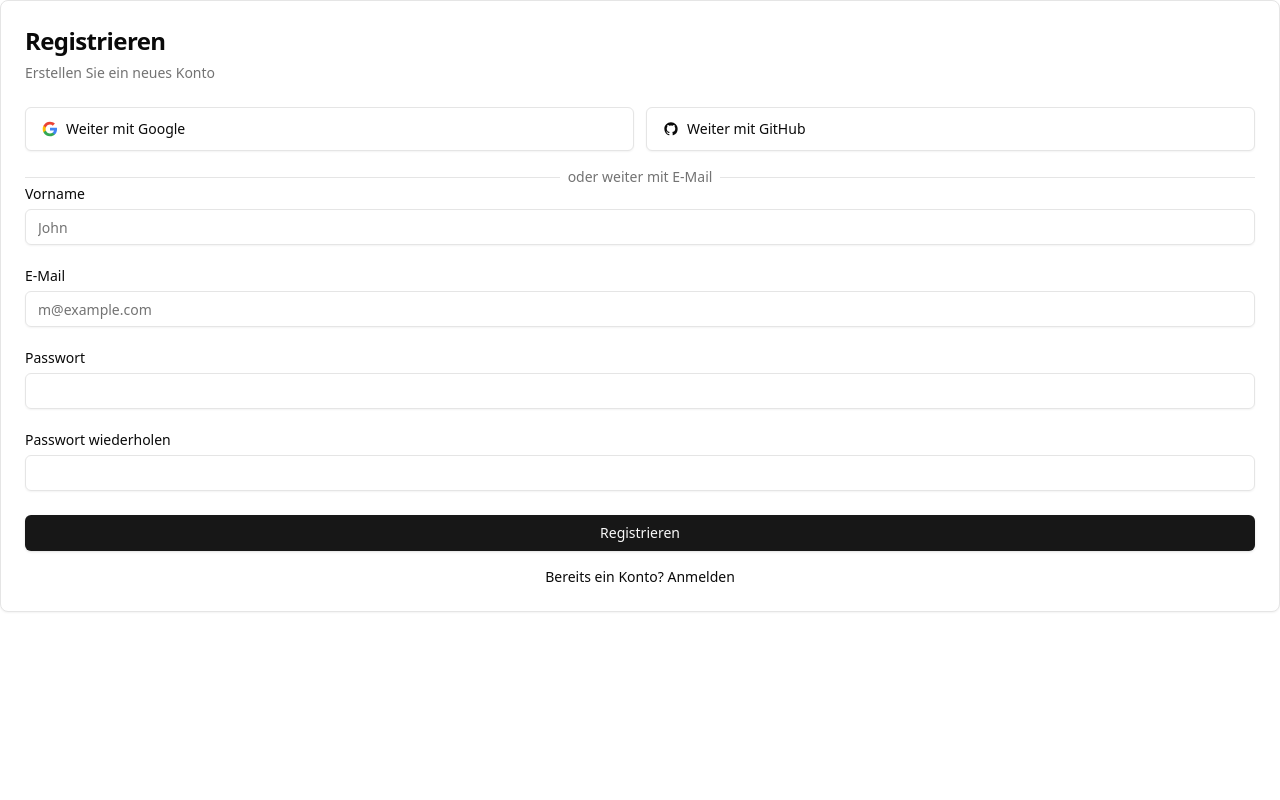
SignUpForm › shows password mismatch error in German
Type "Hans" into the field labelled "Vorname". click: (640, 227)
box: [25,209,1255,245]
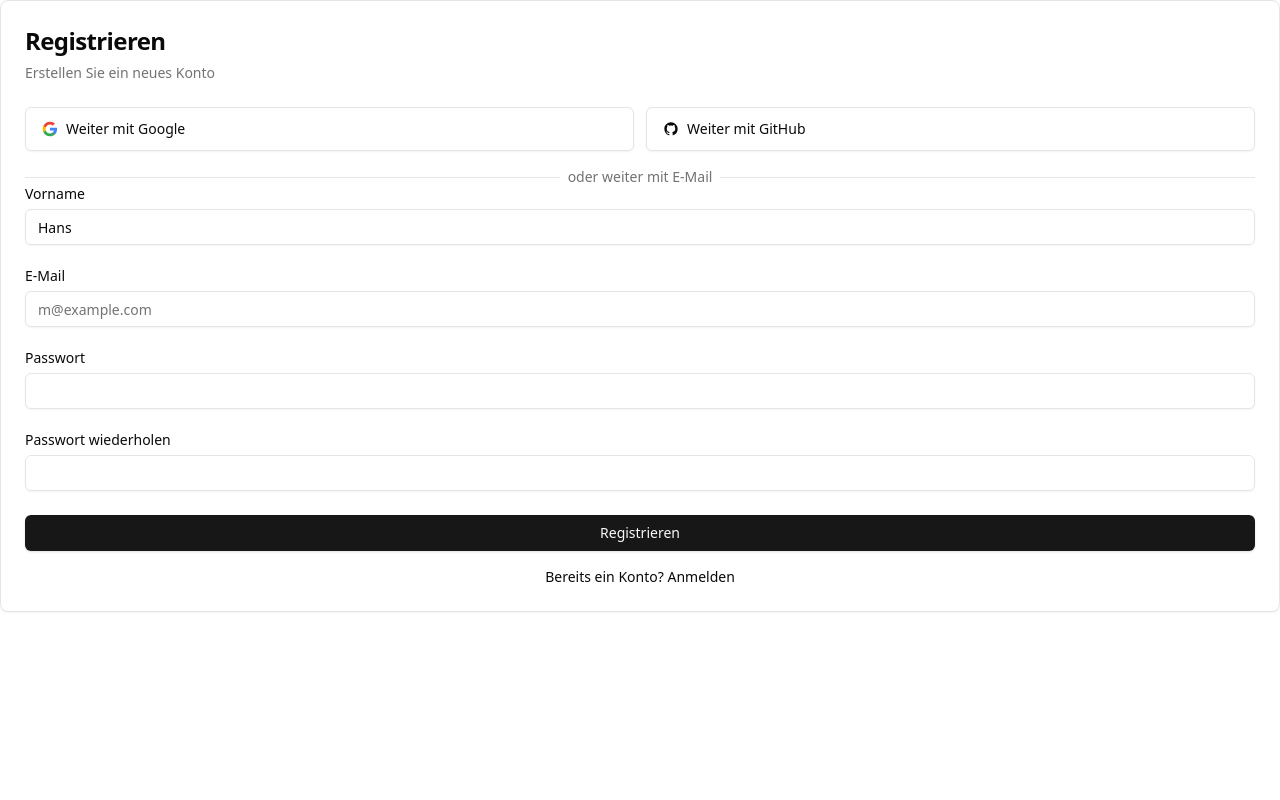
Type "hans@example.com" into the field labelled "E-Mail". click: (640, 309)
box: [25,291,1255,327]
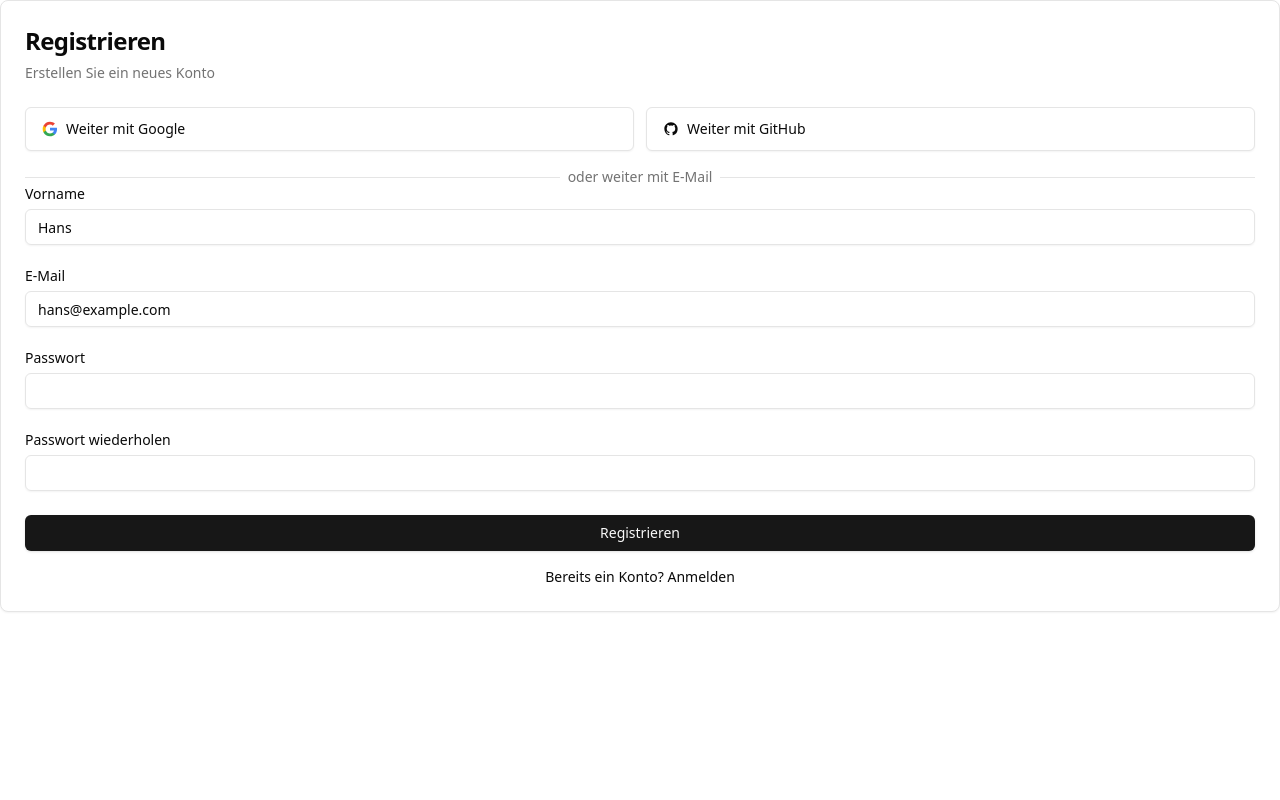
Type "password123" into the password field labelled "Passwort". click: (640, 391)
box: [25,373,1255,409]
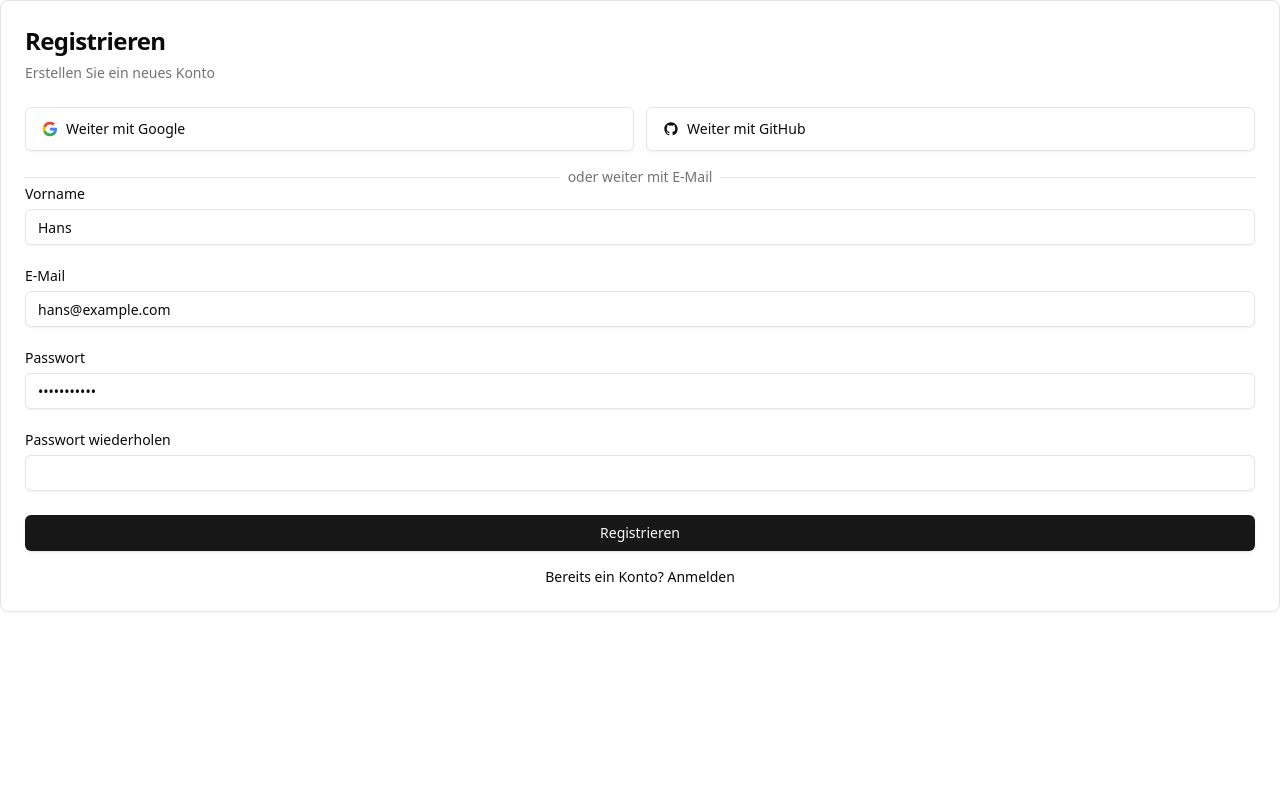
Type "different" into the password field labelled "Passwort wiederholen". click: (640, 473)
box: [25,455,1255,491]
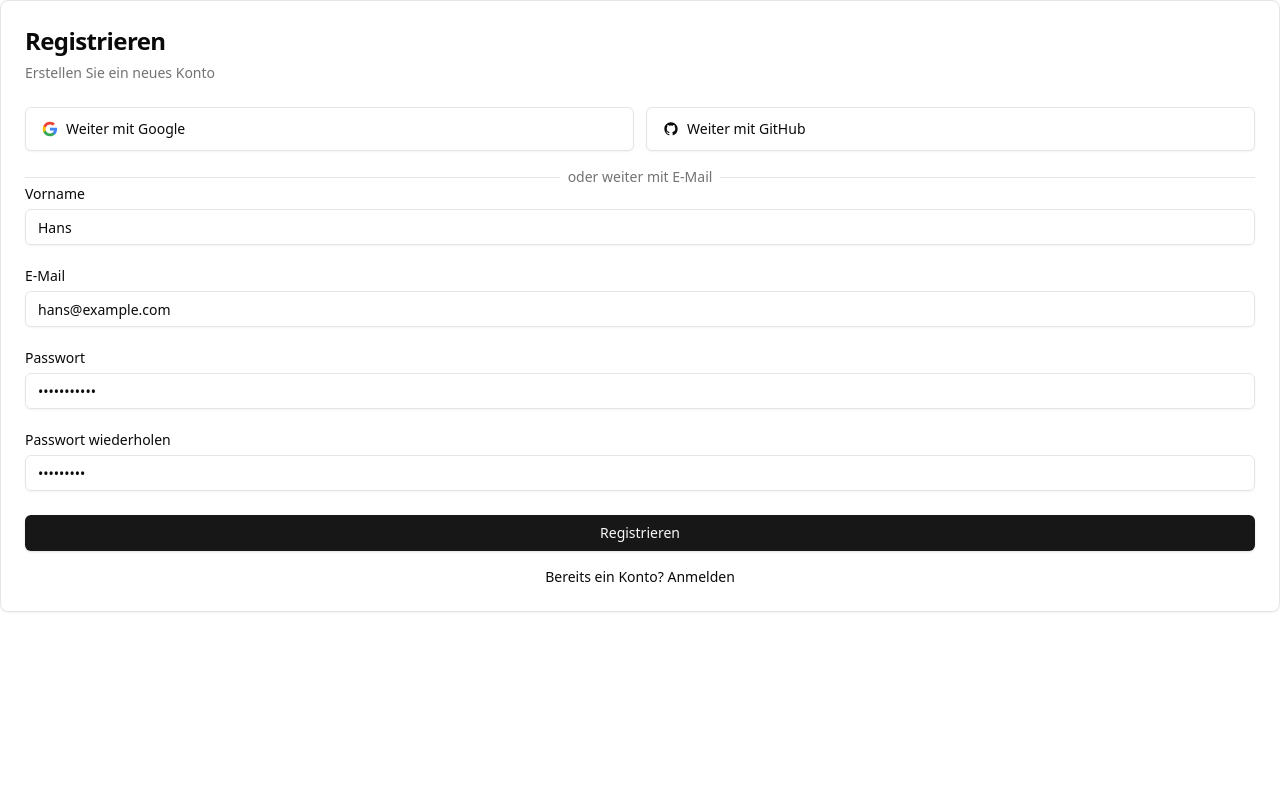
Click the button "Registrieren". click: (640, 533)
box: [25,515,1255,551]
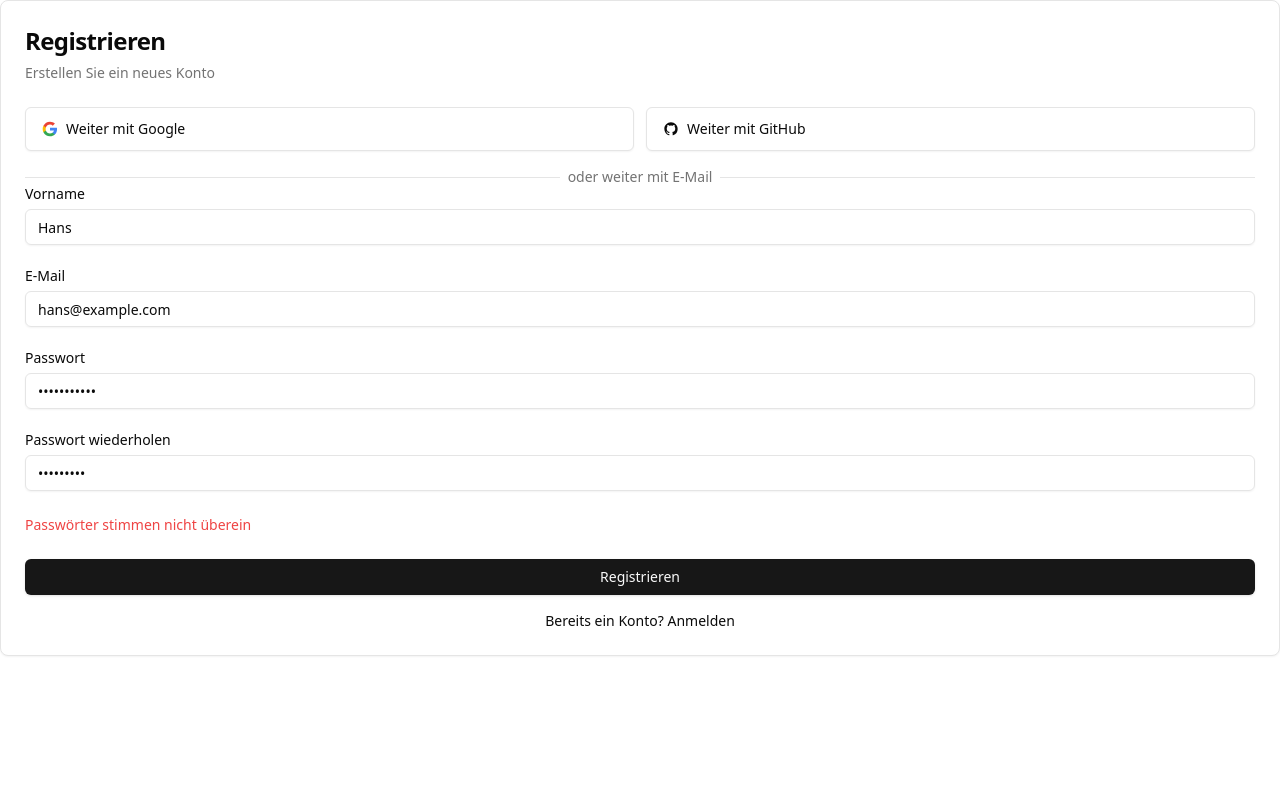
Now the text "Passwörter stimmen nicht überein" is shown, box [25,515,251,534]
